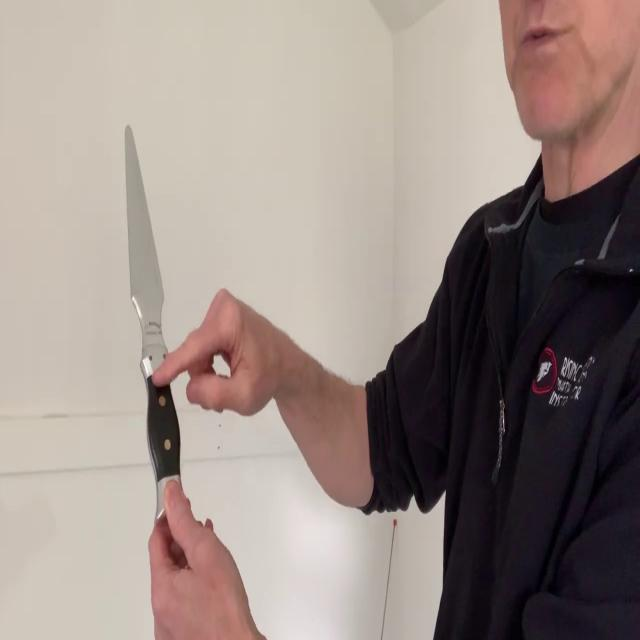Knife_Handle: (125, 124, 276, 640)
